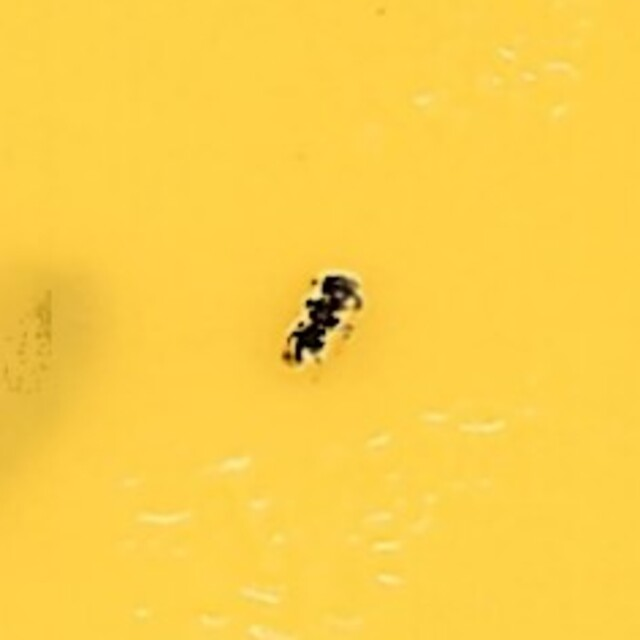Hymenoptera: (271, 261, 369, 379)
